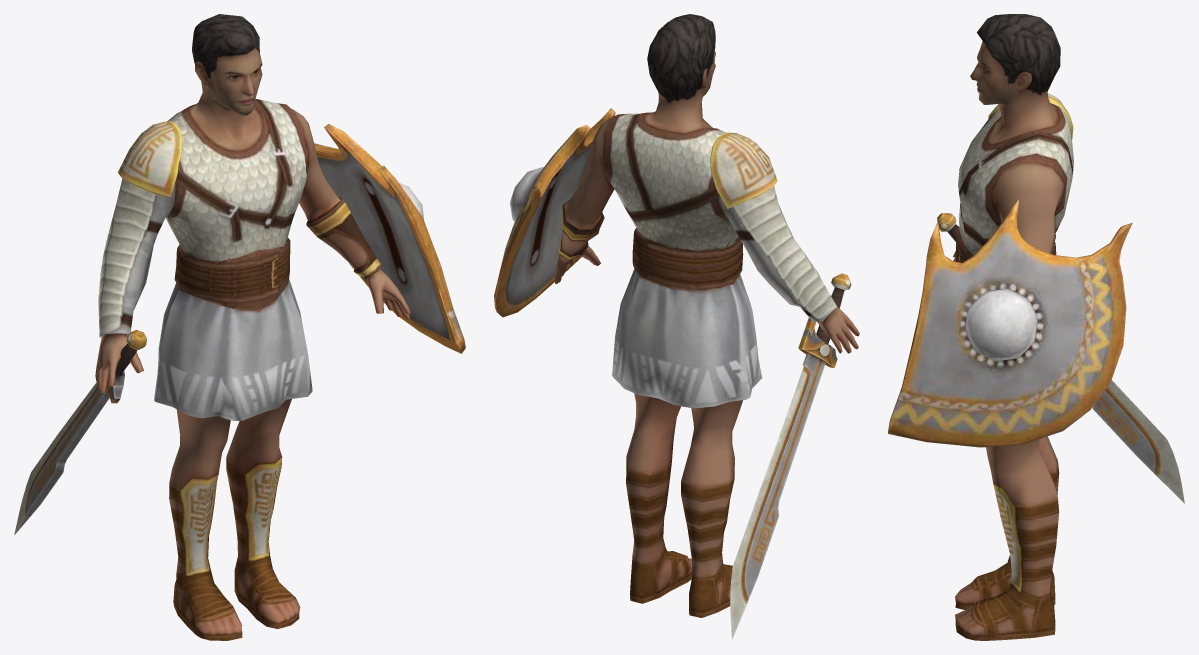
The model's file is 86-murmillohero.glb.
3 renders of one model, left to right at view 1: azimuth 30°, elevation 25°; view 2: azimuth 150°, elevation 25°; view 3: azimuth 270°, elevation 25°, orthographic. The views are drawn at different scales.
Bounding box in the file's own units: 1.25 × 2.1 × 0.9442.
Materials: 3 (3 with a texture image).
